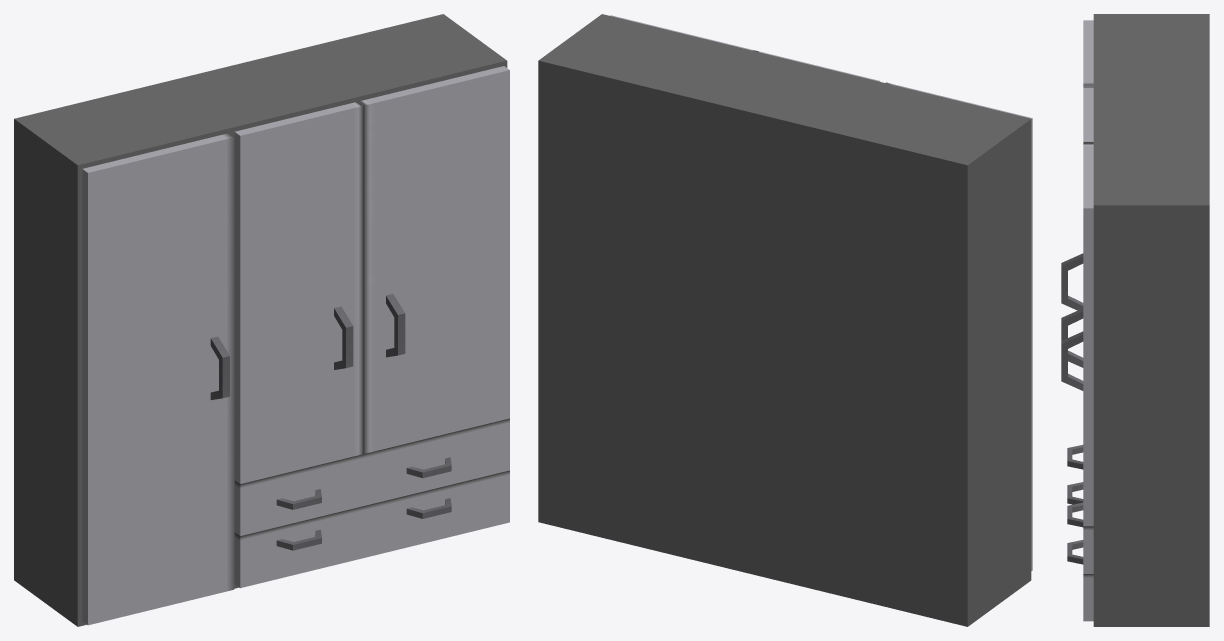
Rendered from WardRobe_2C.fbx.
3 views of the same model, side by side, from view 1: azimuth 30°, elevation 25°; view 2: azimuth 150°, elevation 25°; view 3: azimuth 270°, elevation 25° (orthographic). The views are drawn at different scales.
Visible parts, largest first — view 1: polySurface1575; view 2: polySurface1575; view 3: polySurface1575.
Part boxes in pixels (x1,y1,x2,y2): polySurface1575: (14, 14, 509, 626); polySurface1575: (538, 14, 1032, 626); polySurface1575: (1061, 14, 1209, 626).
Bounding box in the file's own units: 3.31 × 3.4 × 1.09.
